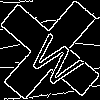W: (25, 25, 92, 91)
